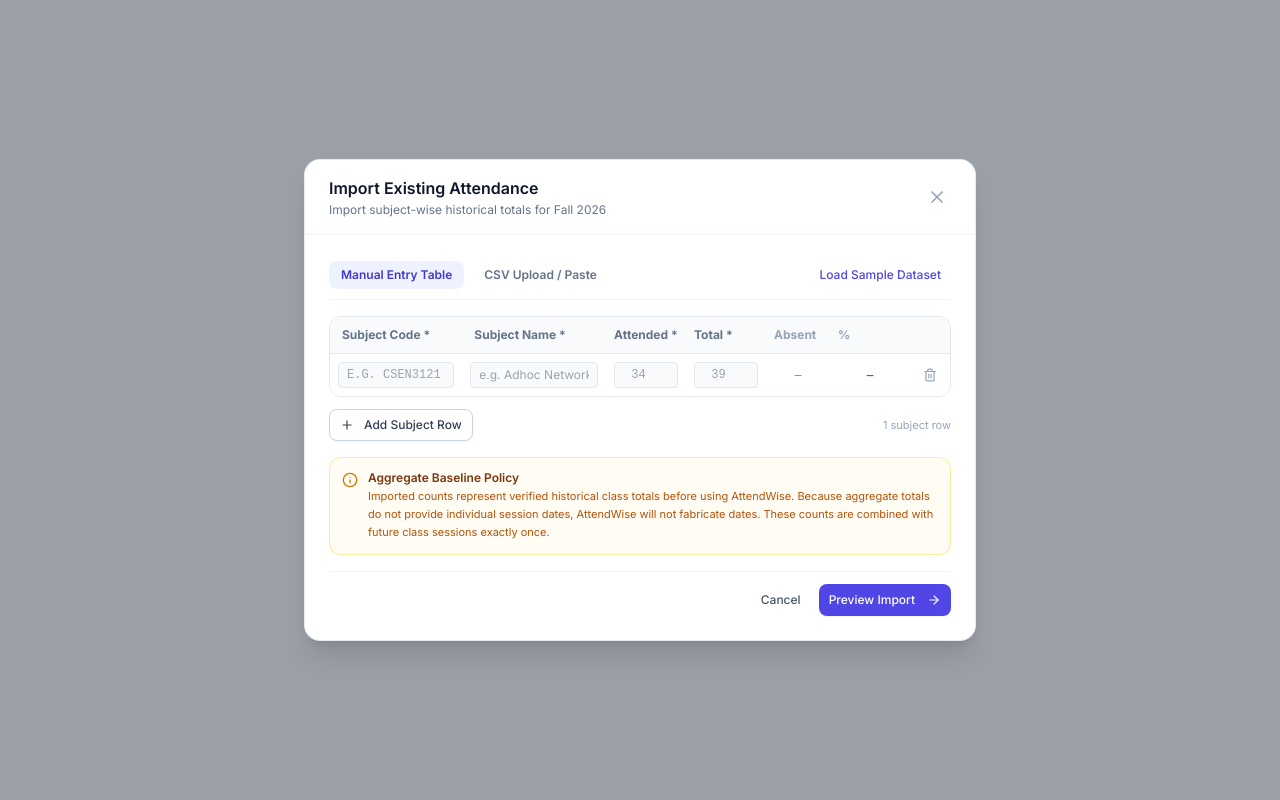
Scenario: Historical Attendance Import Modal › handles validation errors properly in preview and disables commit
The image size is (1280, 800).
// Populate a row
Click the button "Load Sample Dataset".
click(880, 275)  # box [810, 259, 951, 291]
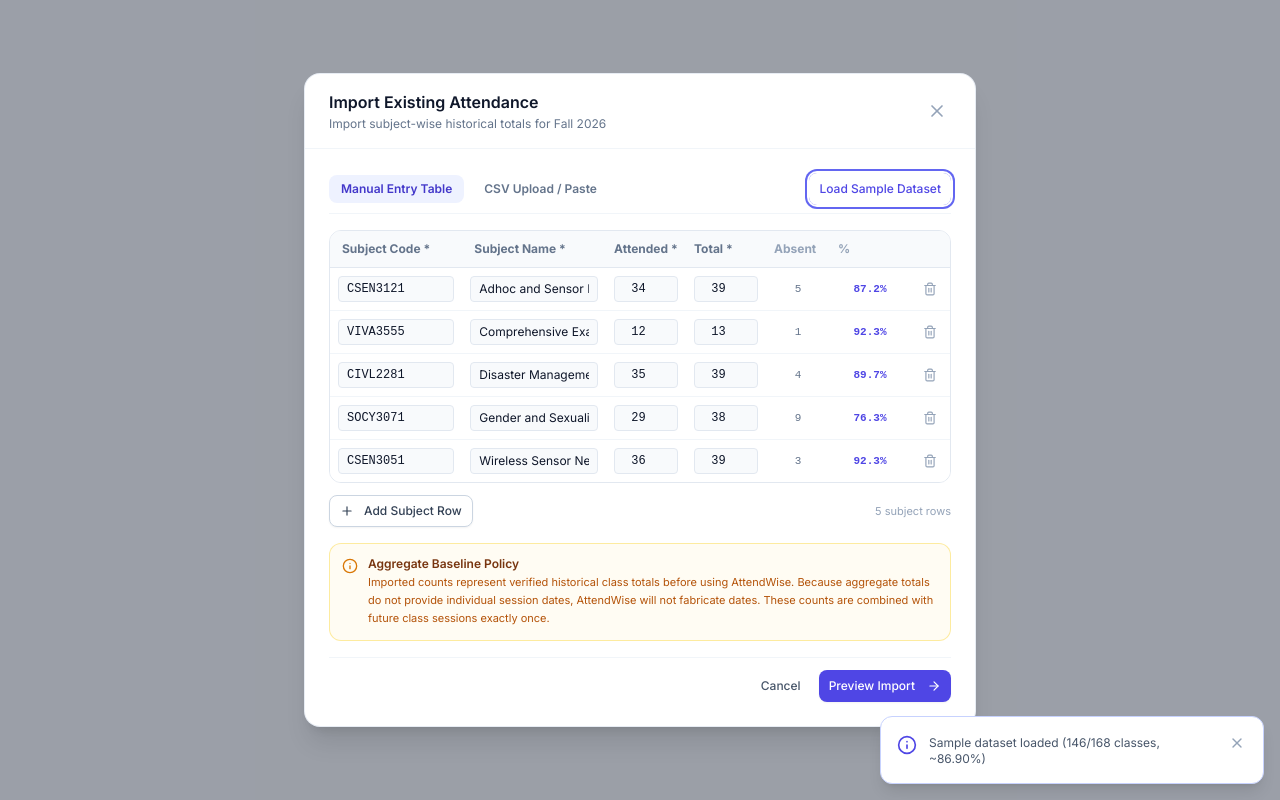
Click the button "Preview Import".
click(885, 686)  # box [819, 670, 951, 702]
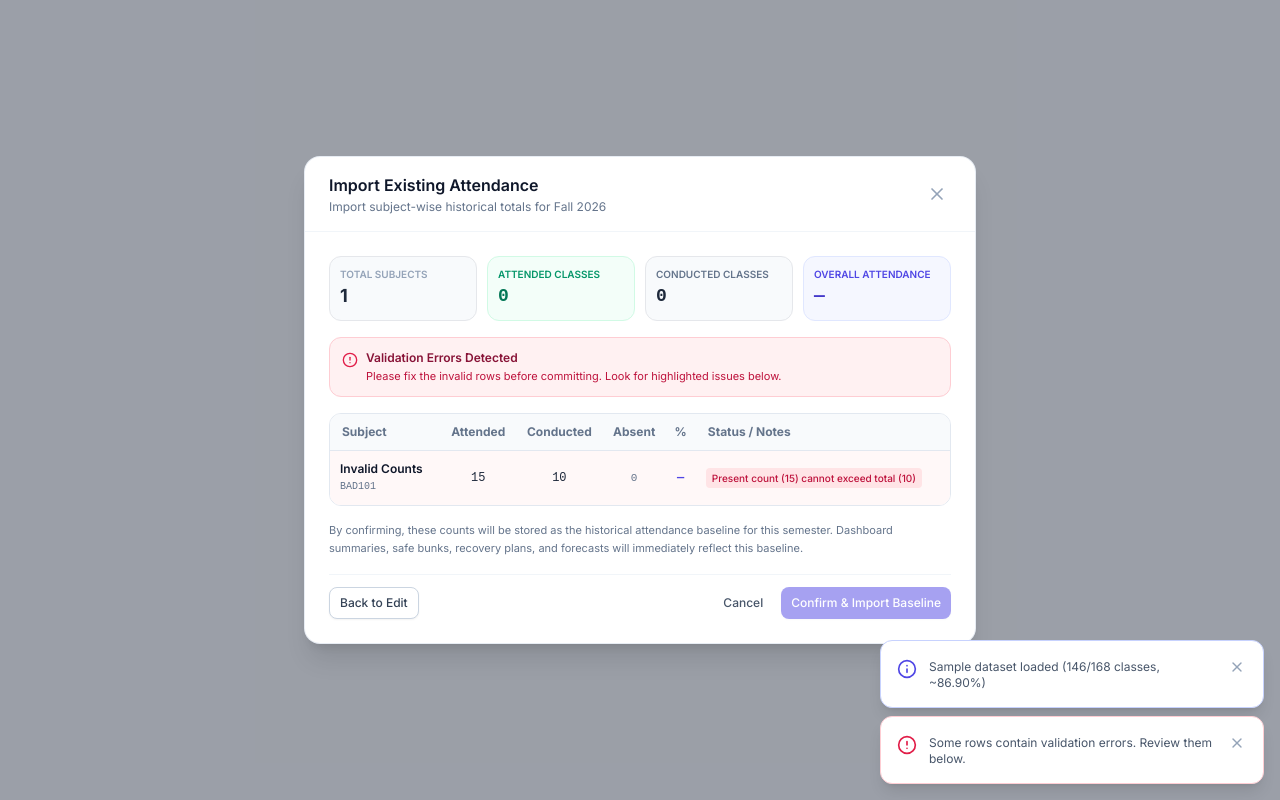
Now the text "Validation Errors Detected" is shown, box [366, 350, 518, 365]
Now the text "Present count (15) cannot exceed total (10)" is shown, box [706, 468, 922, 488]
Now the button "Confirm & Import Baseline" is disabled, box [781, 587, 951, 619]
